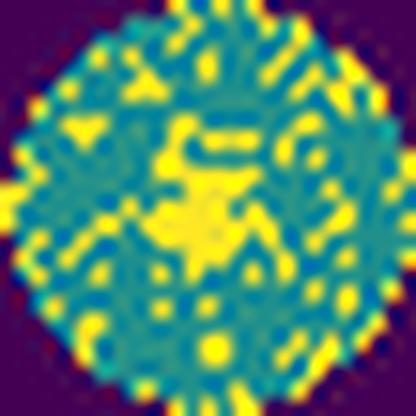Center: (134, 108, 292, 287)
